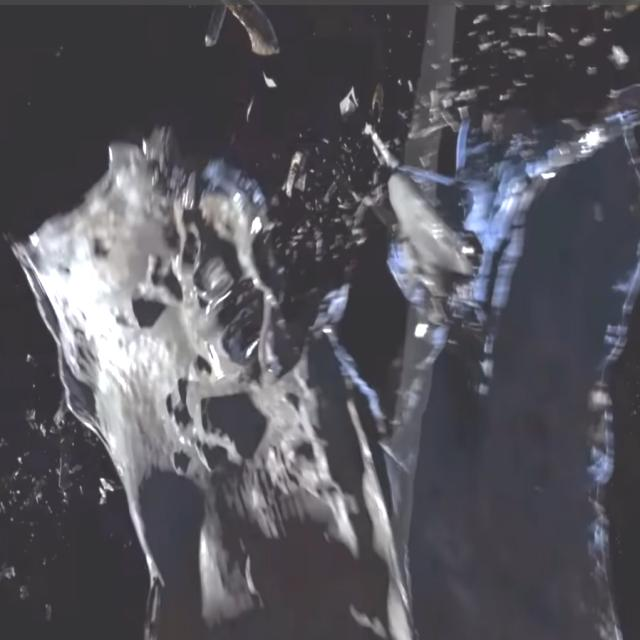large_debris: (21, 14, 640, 635)
